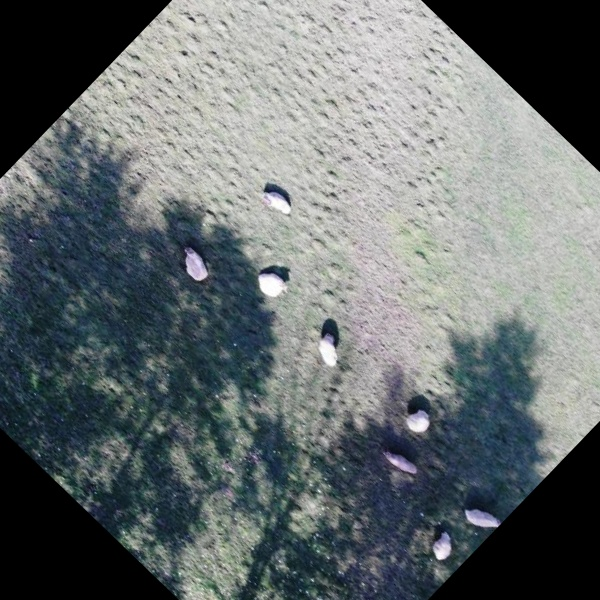sheep: (391, 391, 460, 459), (410, 517, 475, 582), (163, 238, 224, 298), (252, 176, 312, 235), (307, 324, 366, 383), (372, 436, 426, 490), (248, 262, 302, 315), (454, 489, 507, 542)
